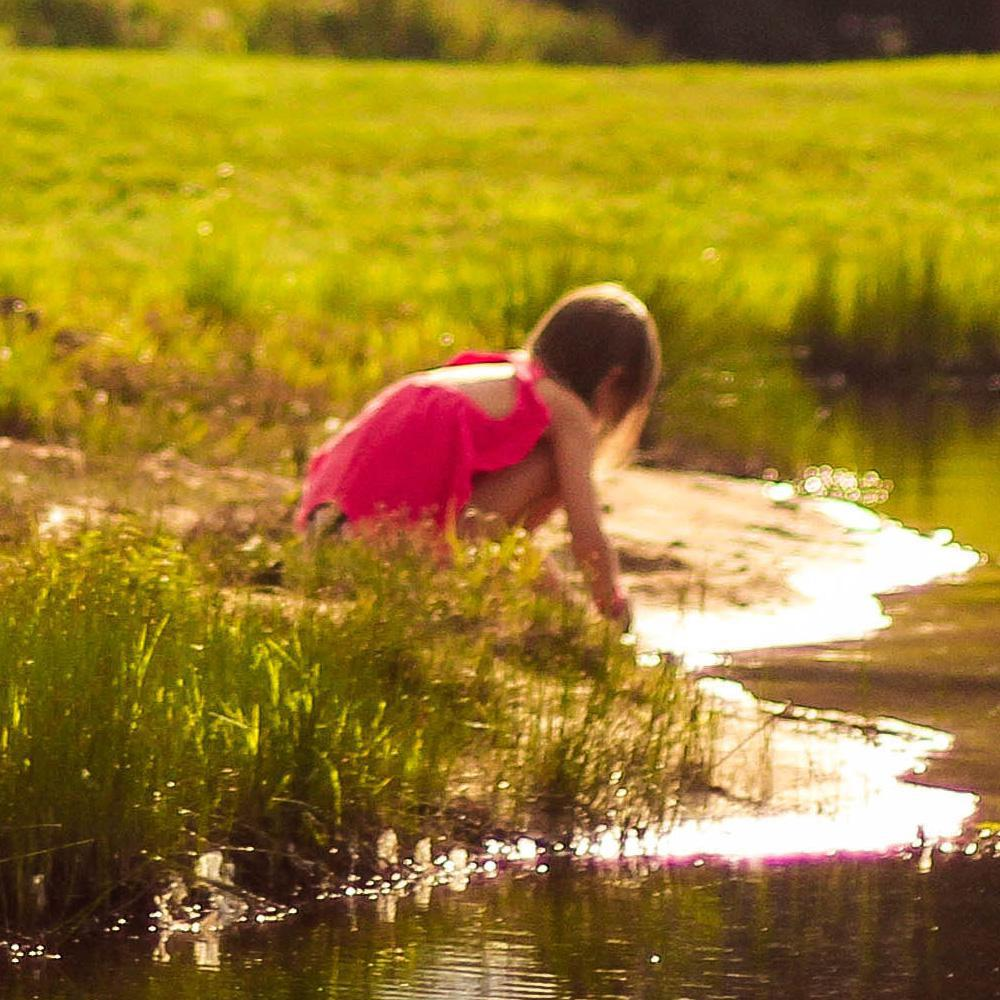child: (294, 273, 672, 637)
